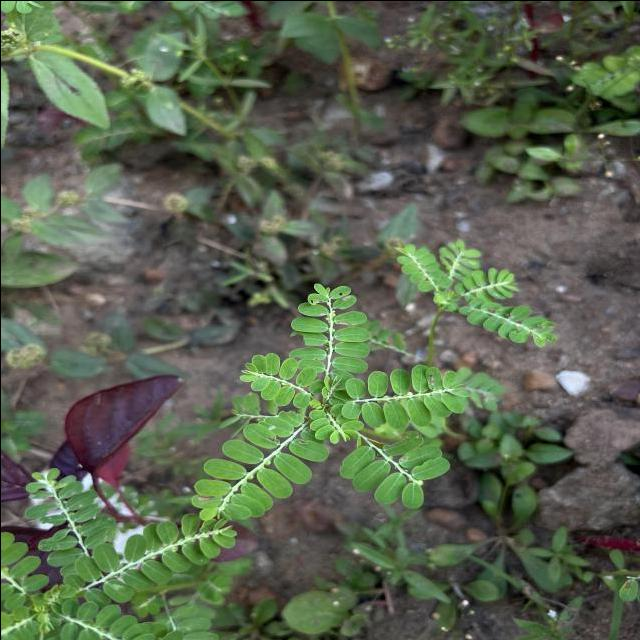Phyllanthus niruri: (62, 510, 236, 604), (188, 416, 331, 524), (336, 431, 454, 512), (24, 463, 115, 568), (340, 363, 473, 430), (284, 279, 371, 376), (235, 351, 323, 408)
